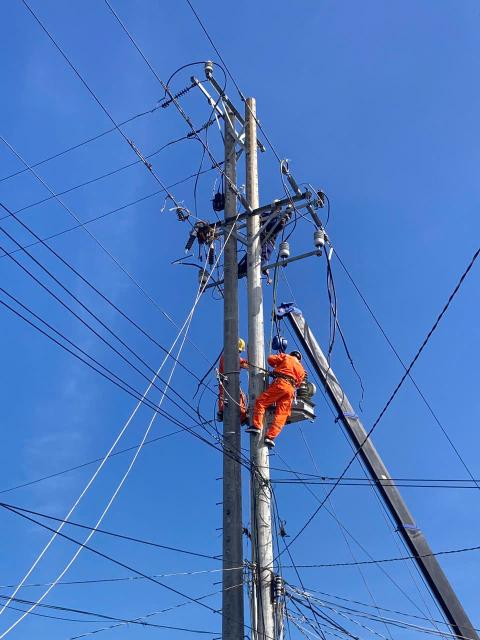gloves: (258, 434, 279, 450), (242, 424, 264, 435), (216, 409, 224, 418)
harness: (265, 365, 302, 390)
helmet: (232, 334, 247, 353), (289, 346, 304, 362)
